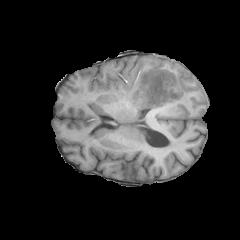glioma: (118, 55, 191, 112)
